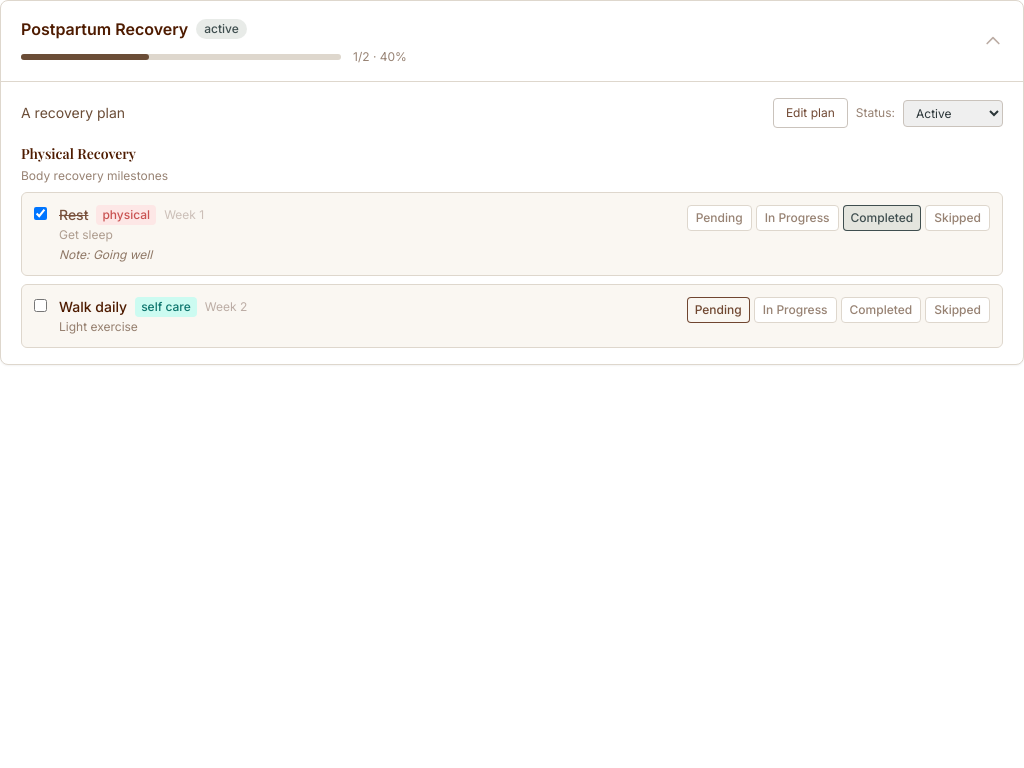
CarePlanCard › can cancel editing
Click the button "Edit plan".
click(810, 113)  # box [773,98,848,128]
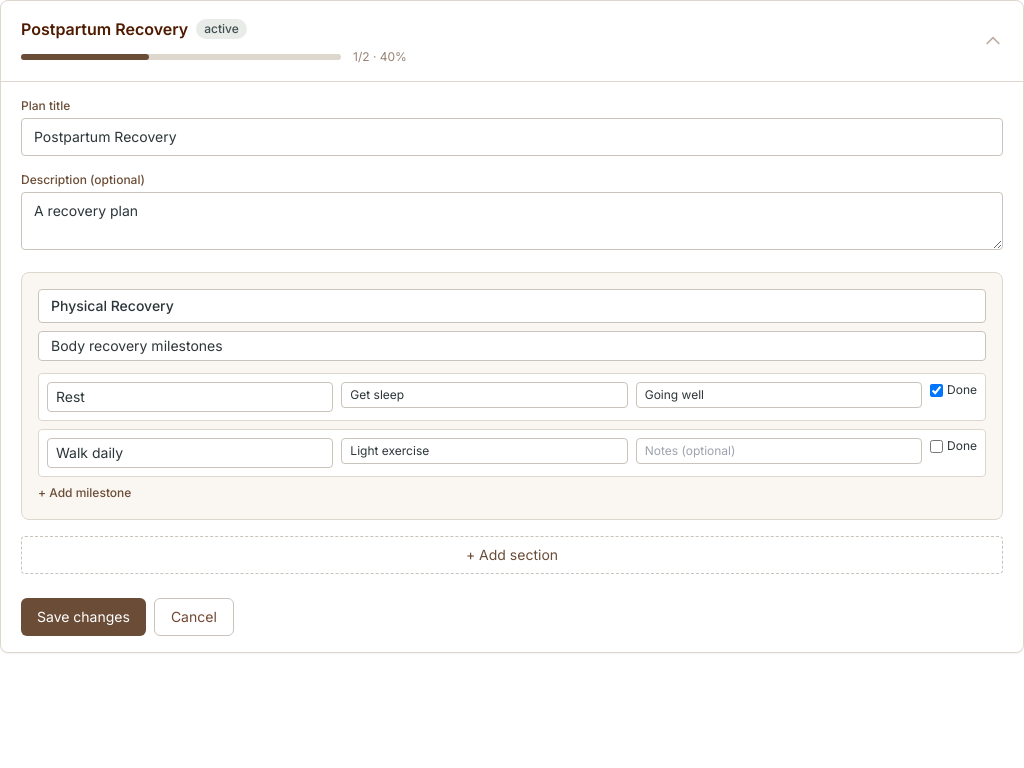
Click the button "Cancel".
click(194, 617)  # box [154,598,234,636]
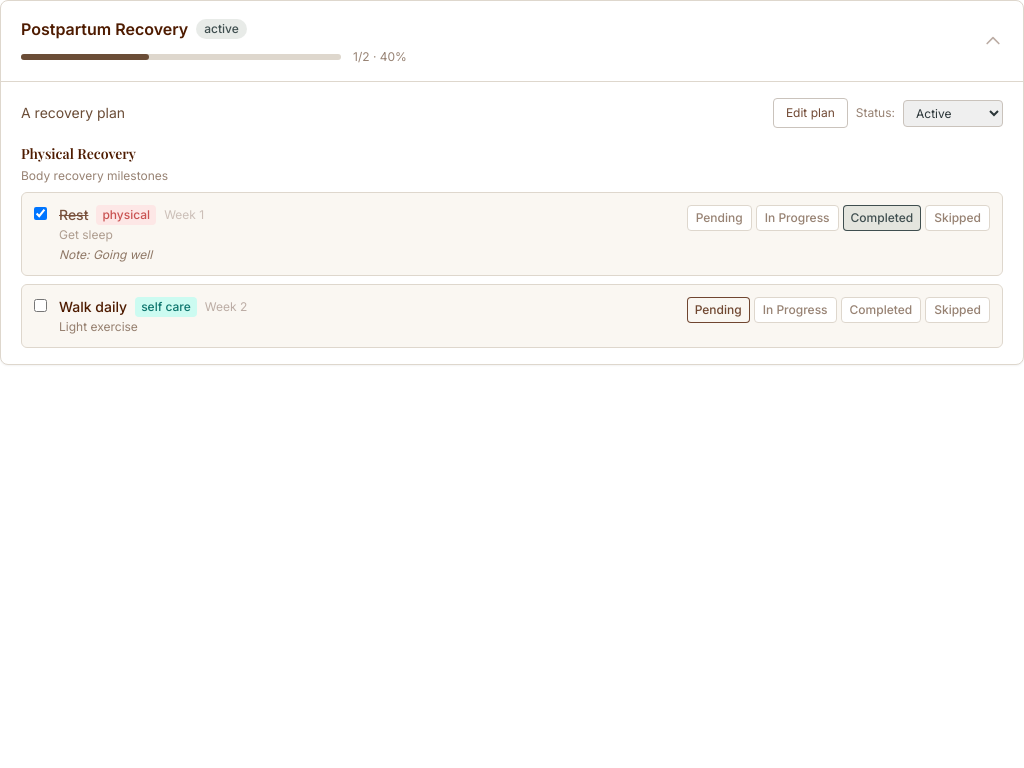
Now the button "Save changes" is gone
